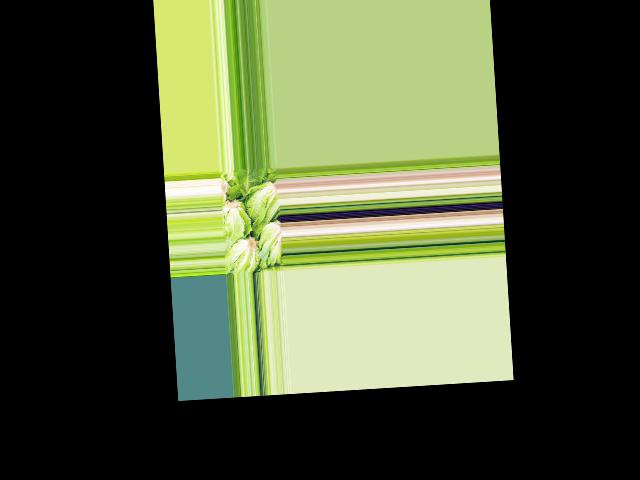lettuce: (233, 167, 259, 193)
